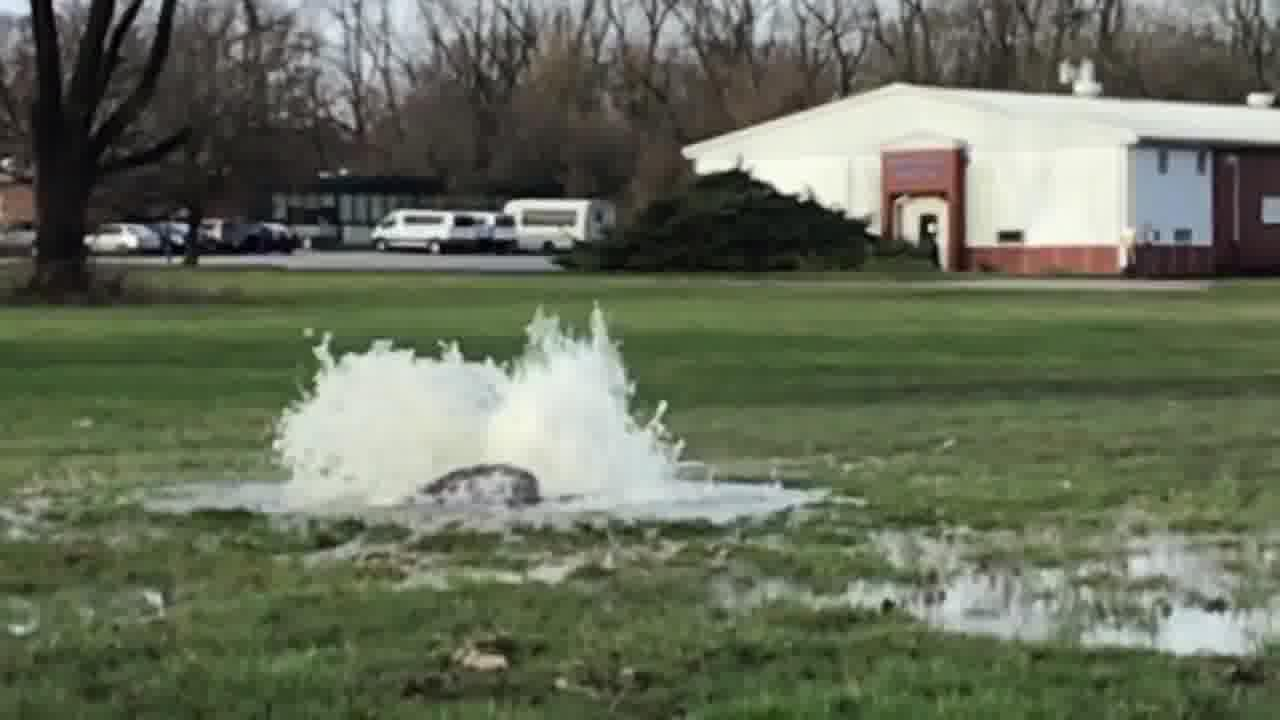drainage overflow-repair-: (263, 307, 682, 527)
